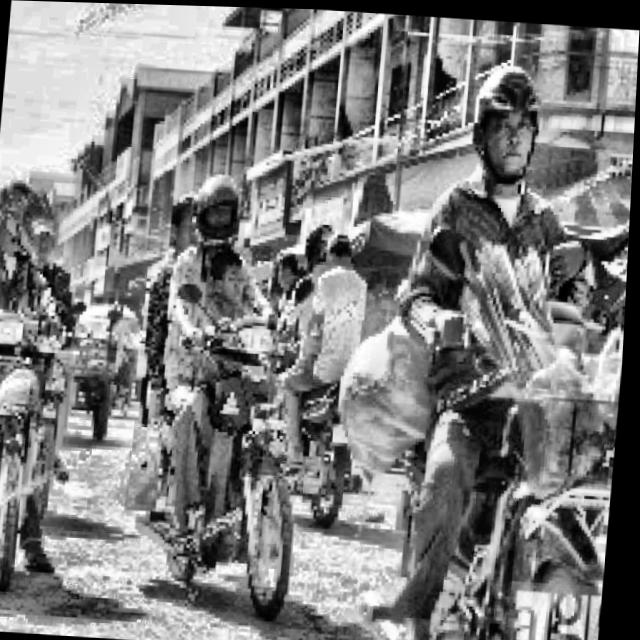motorcycle: (371, 216, 632, 640), (129, 254, 337, 615), (0, 275, 84, 589)
